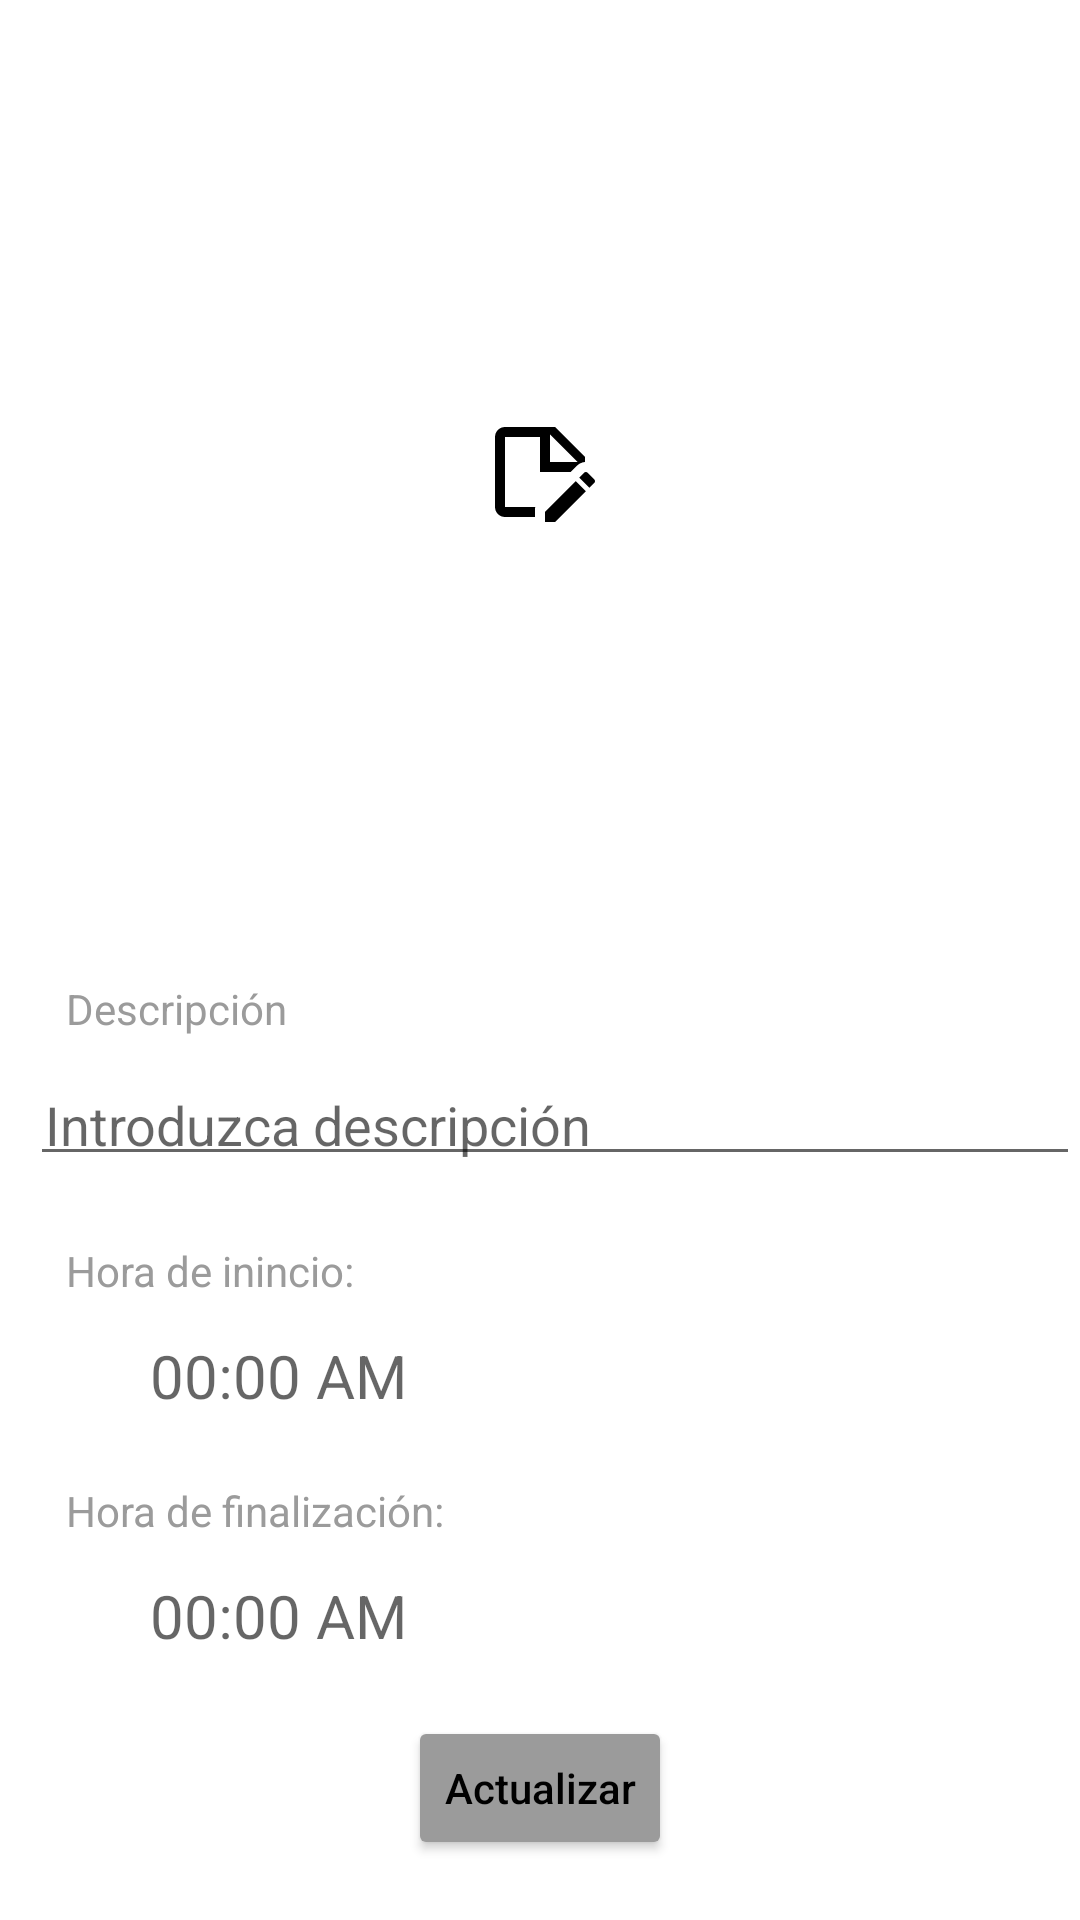

Icon bounding boxes for this 1080×1920 phone screenshot, format {"left": x1, "top": y1, "right": x2, "bottom": y2}:
edit tarea: {"left": 495, "top": 427, "right": 595, "bottom": 522}
